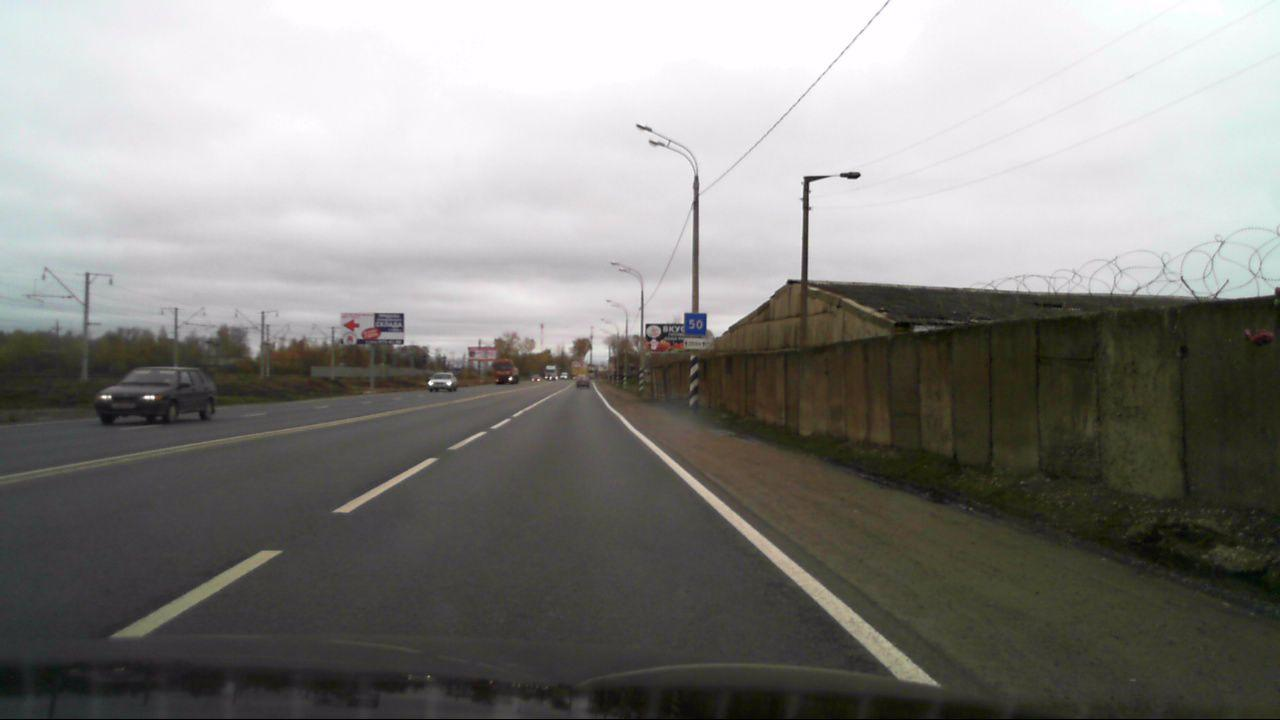6_2: (684, 312, 706, 336)
